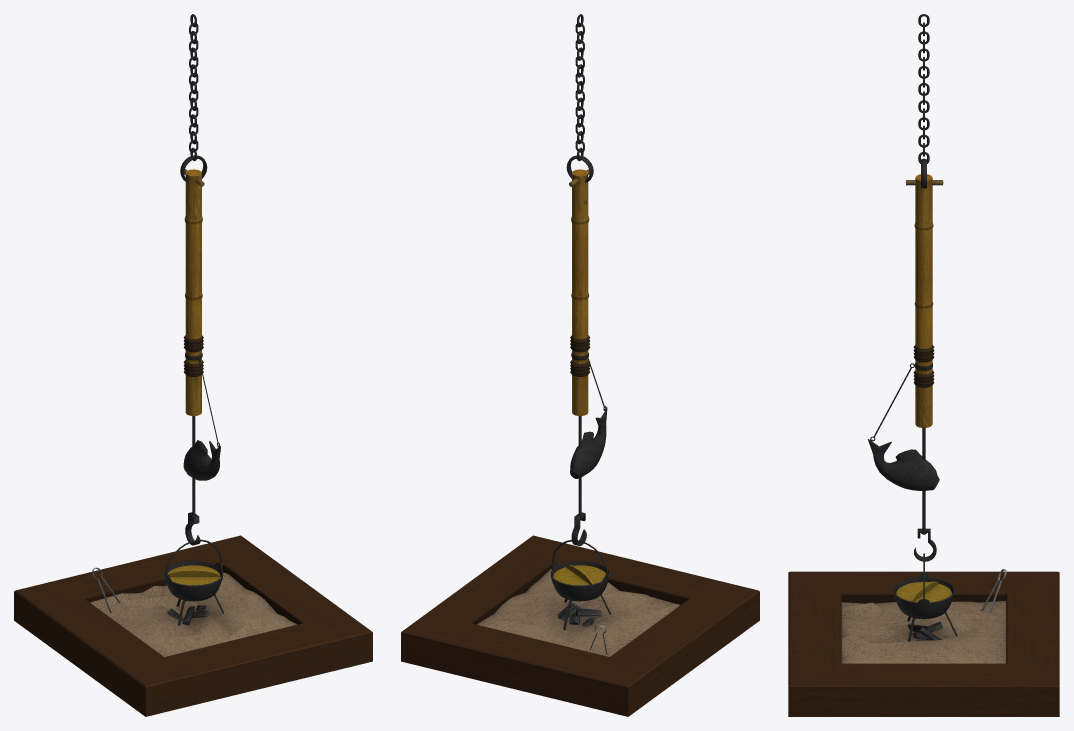
File: Hearth01.fbx
The picture shows the model from 3 angles, left to right: view 1: azimuth 30°, elevation 25°; view 2: azimuth 150°, elevation 25°; view 3: azimuth 270°, elevation 25°; orthographic projection. The views are drawn at different scales.
Visible parts, largest first — view 1: Hearth01; view 2: Hearth01; view 3: Hearth01.
Part boxes in pixels (x1=…): Hearth01: x1=14, y1=14, x2=372, y2=716; Hearth01: x1=401, y1=14, x2=759, y2=716; Hearth01: x1=788, y1=14, x2=1059, y2=716.
Size of the model in its own units: 133 by 349 by 133.
